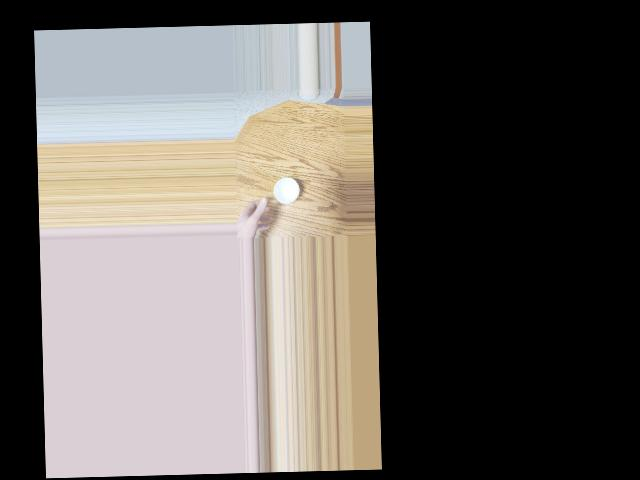cotage: (270, 177, 299, 210)
